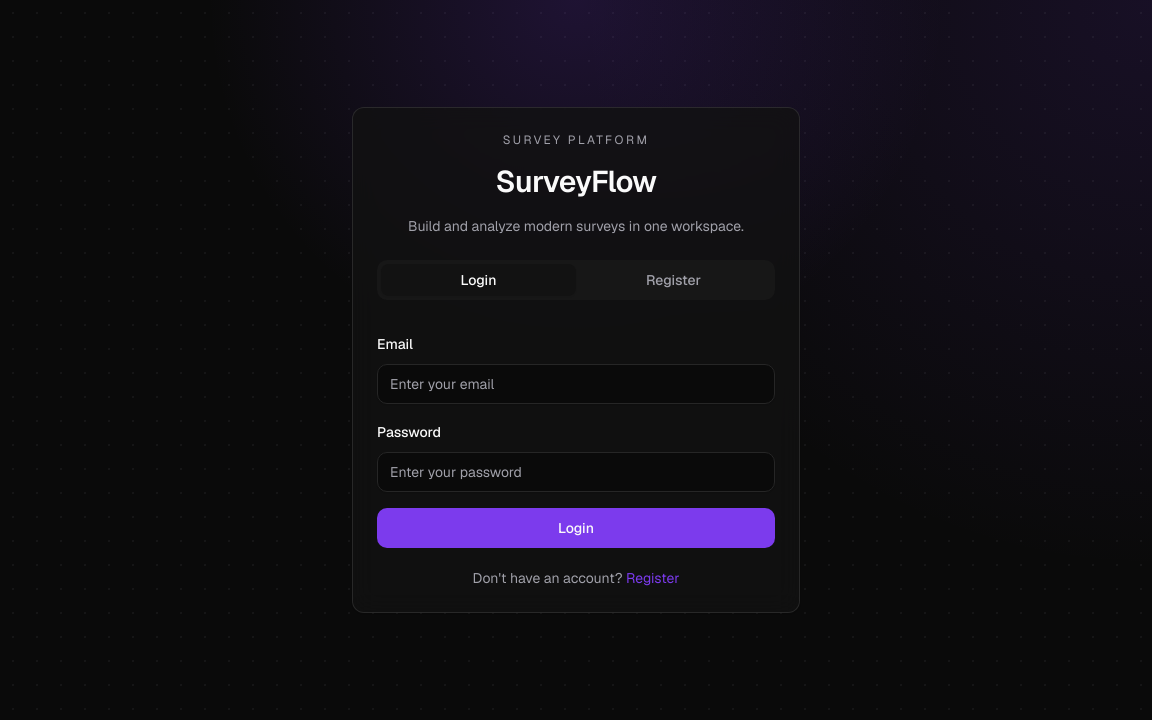
Scenario: AuthPage component › switches back to login mode when toggle is clicked again
Click the button with test id "toggle-mode".
click(653, 578)  # box x1=626 y1=568 x2=680 y2=588
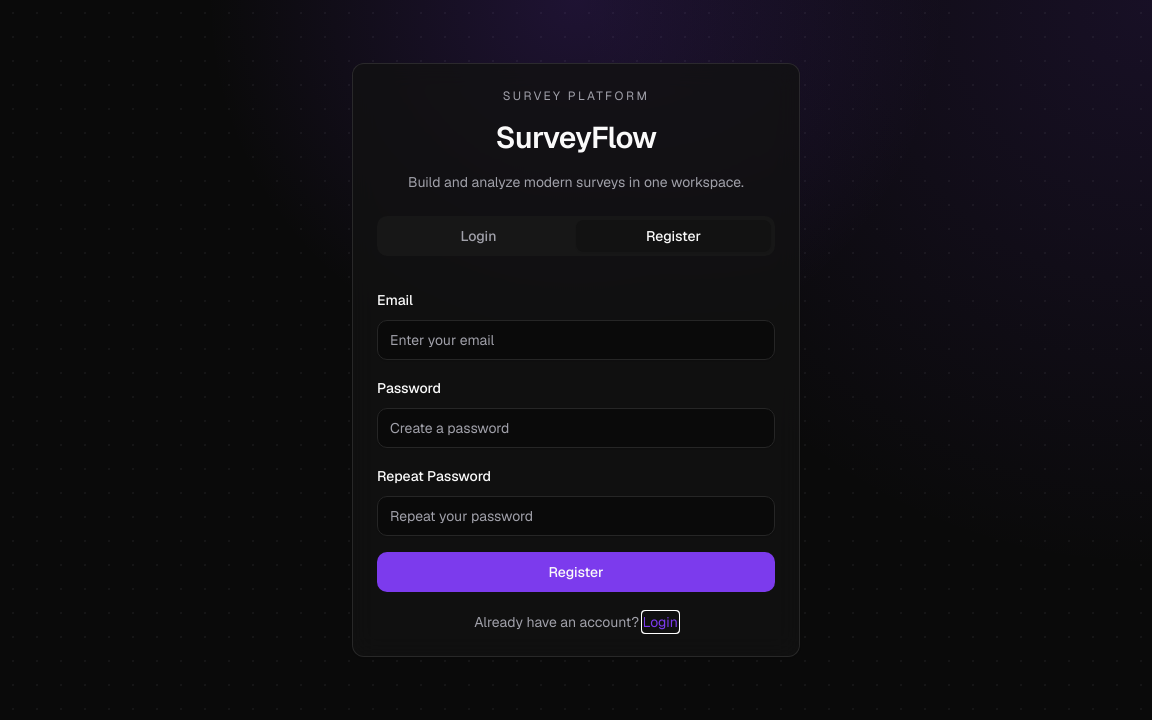
Click the button with test id "toggle-mode".
click(660, 622)  # box x1=643 y1=612 x2=678 y2=632
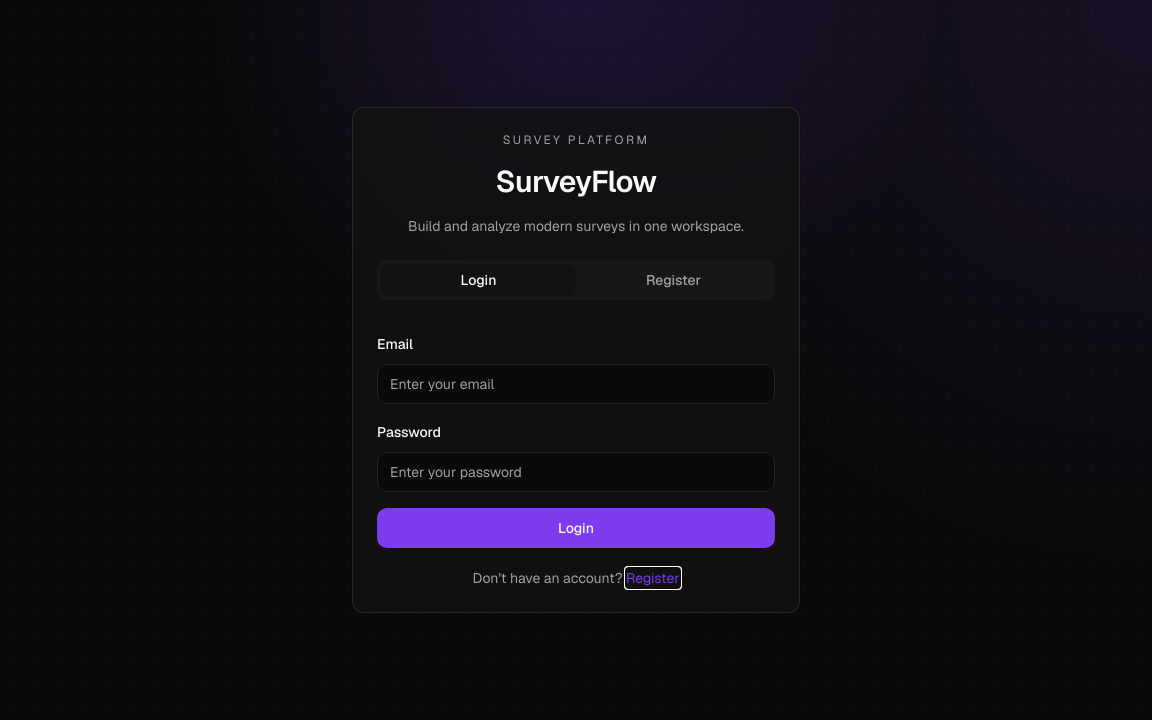
Expected: the label labelled "Repeat Password" is gone
Expected: the button with test id "toggle-mode" reads "Register", x1=626 y1=568 x2=680 y2=588
